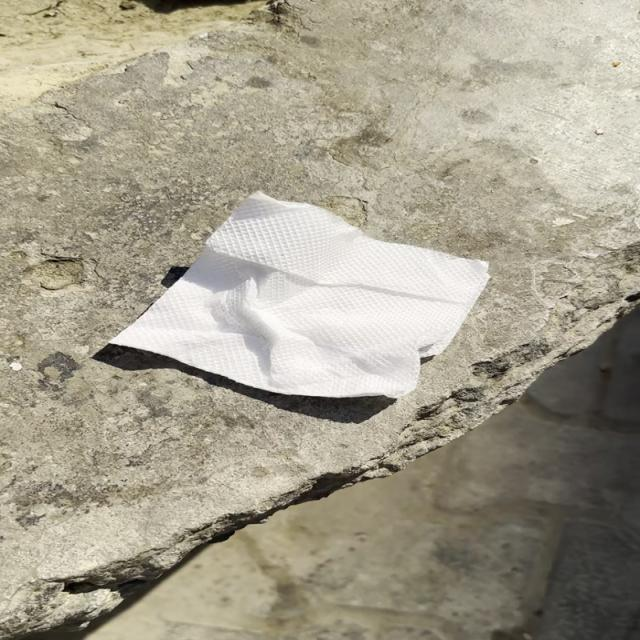tissue: (101, 190, 508, 400)
